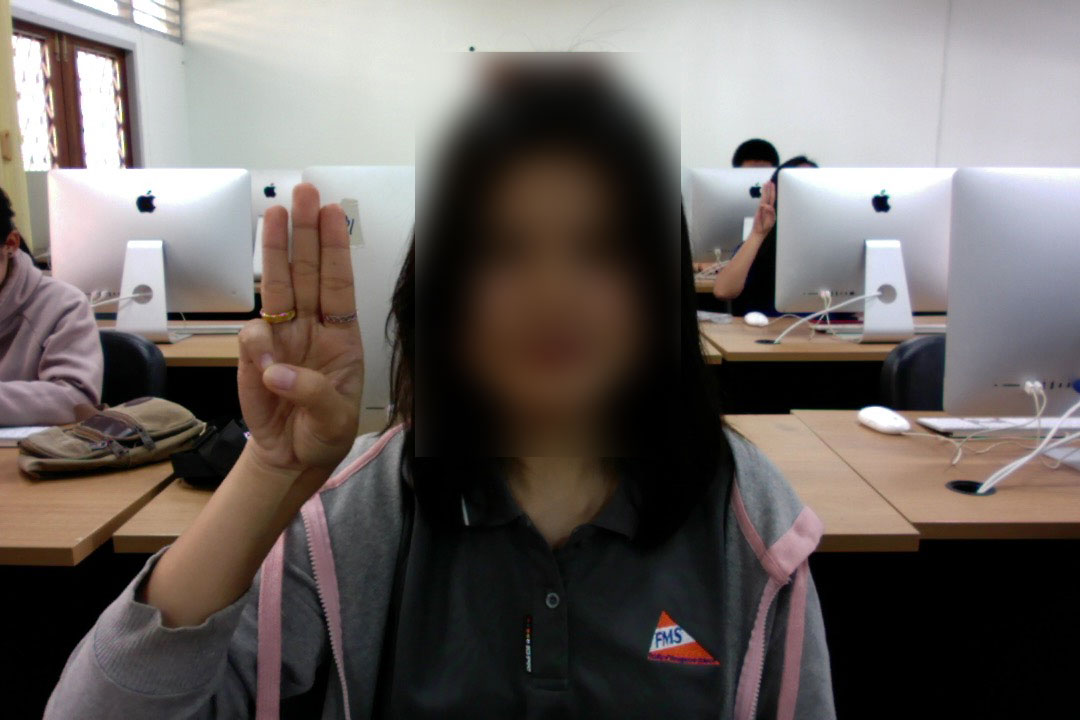wor: (228, 189, 381, 481)
